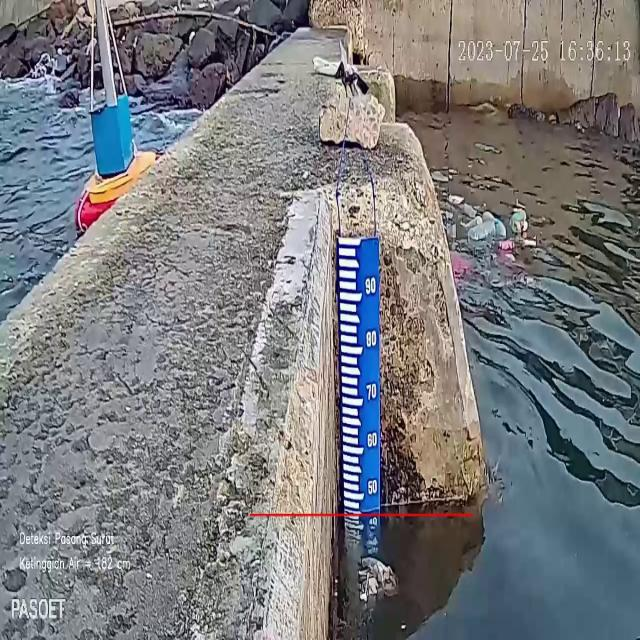50: (368, 479, 378, 495)
60: (367, 431, 378, 448)
70: (367, 382, 378, 401)
80: (365, 327, 377, 350)
90: (366, 277, 376, 296)
staff: (338, 235, 380, 512)
